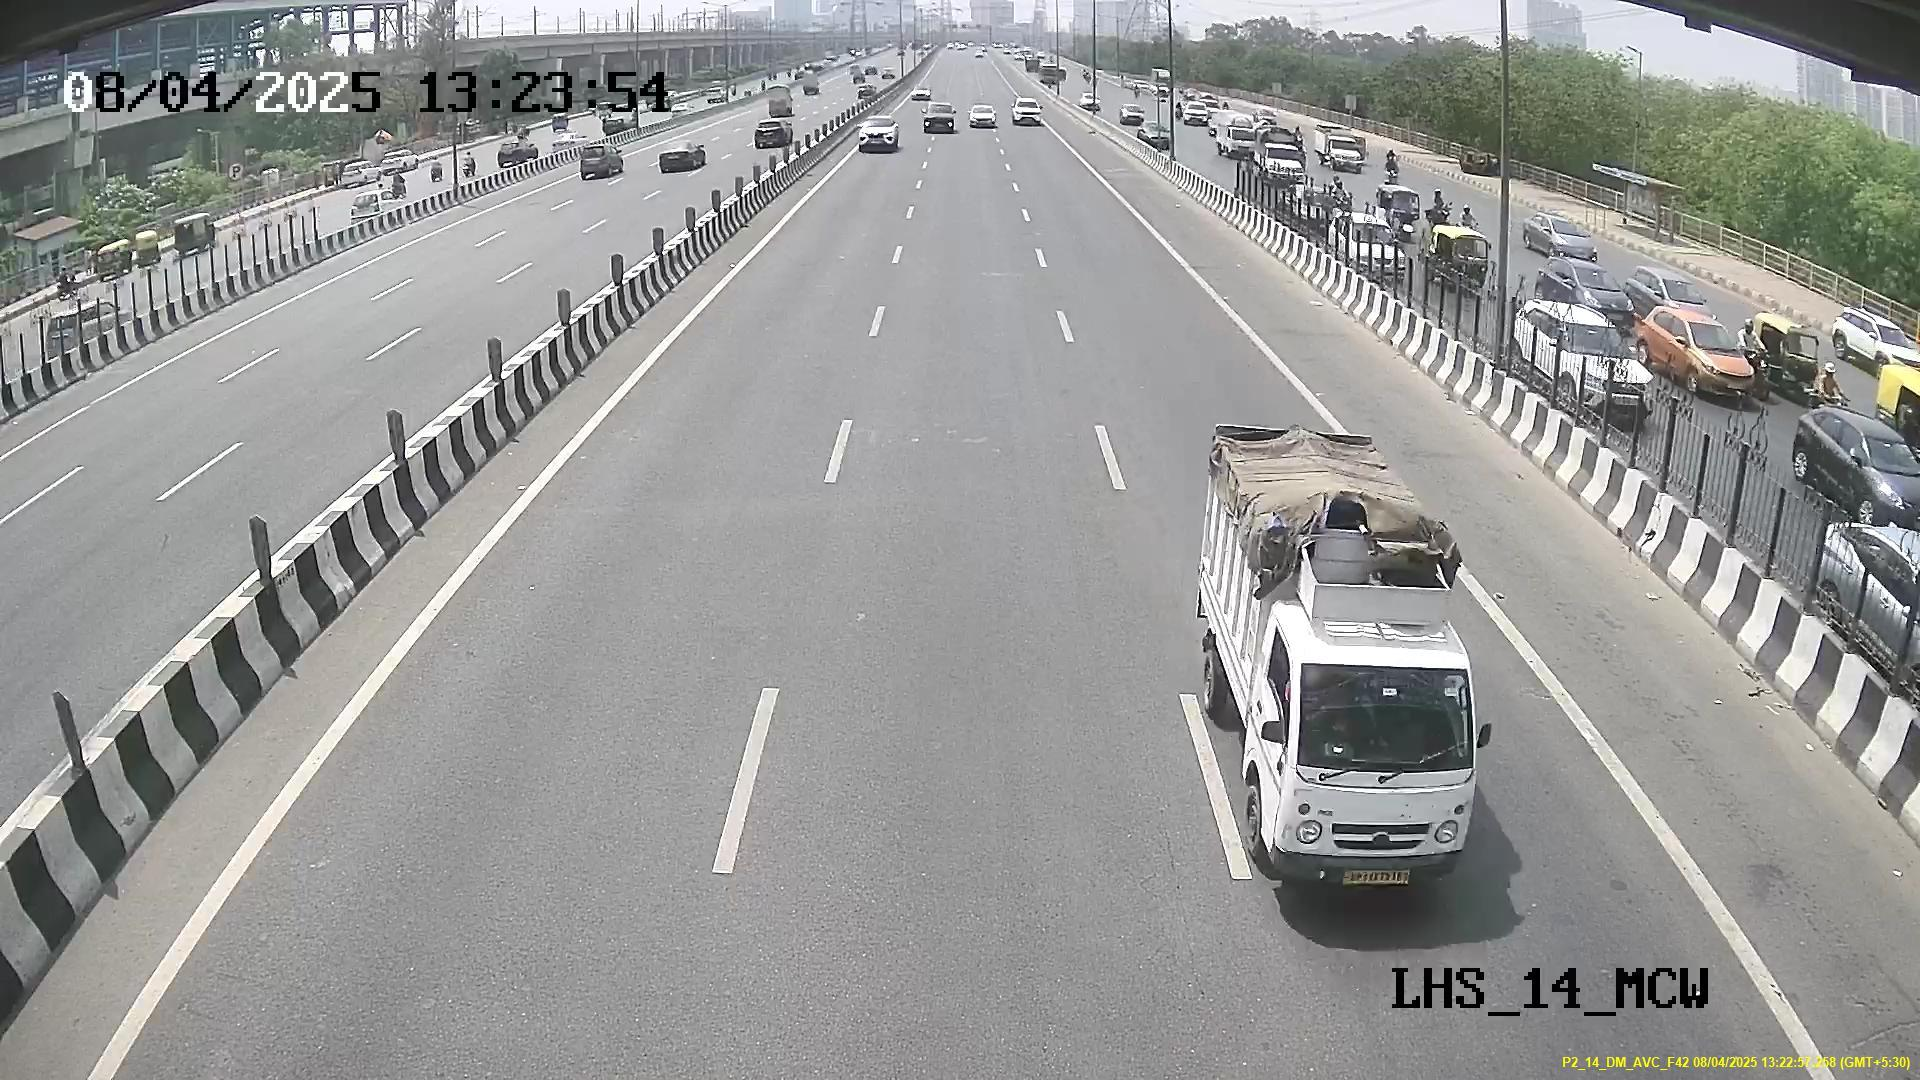car: (1258, 630, 1480, 895)
